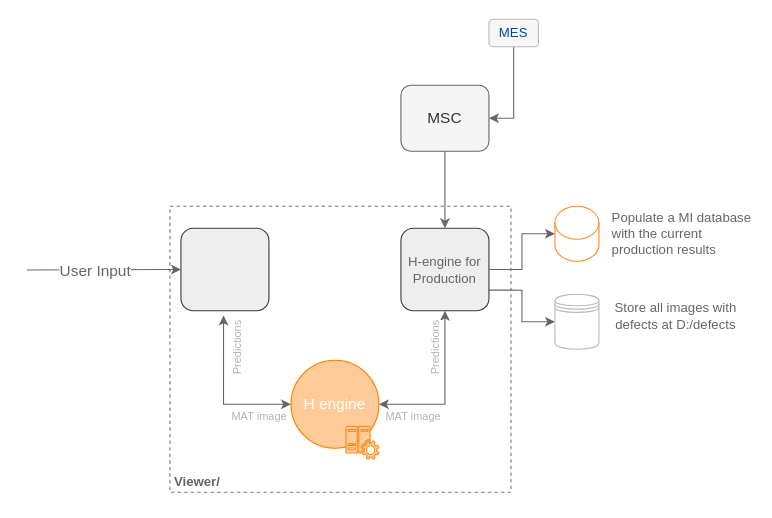
This 772x518 diagram has some shape labels left out. The centre of each missing label's shape, as x and y in pixels:
"common config file" goes at [362,442].
"H-Beam Processor" goes at [224,269].
